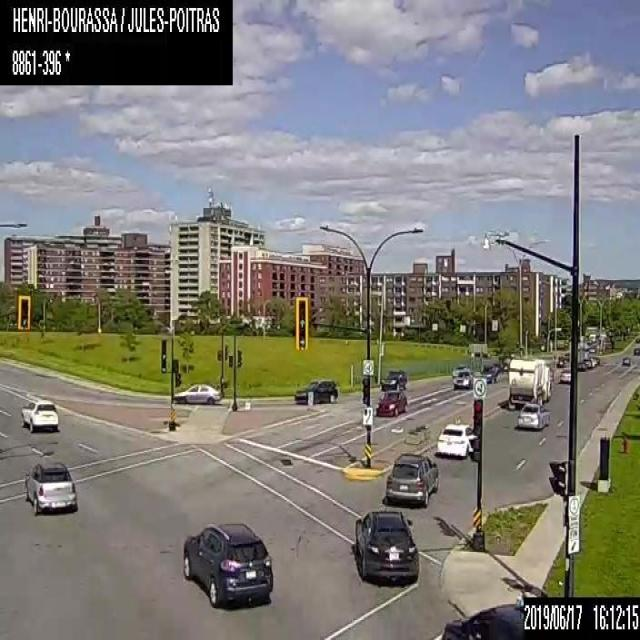vehicle: (179, 520, 274, 609), (353, 508, 419, 582), (440, 598, 523, 638), (24, 460, 76, 516), (385, 452, 437, 507), (508, 356, 551, 408), (435, 420, 476, 460), (21, 397, 58, 432), (293, 378, 337, 404), (173, 382, 219, 405), (375, 389, 409, 416), (516, 403, 549, 430), (382, 369, 408, 389), (480, 363, 501, 382), (452, 370, 472, 389), (451, 364, 468, 376), (559, 366, 570, 382), (556, 355, 566, 367), (622, 354, 630, 364), (633, 346, 639, 355), (635, 337, 639, 341)
